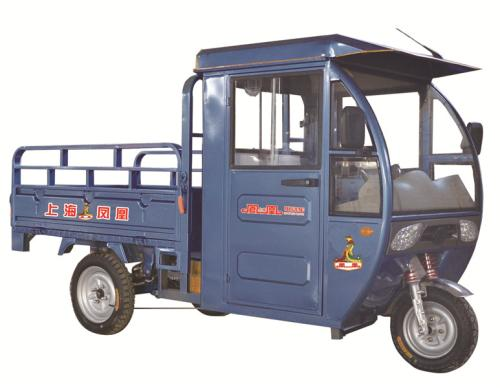tricycle: (9, 30, 480, 374)
